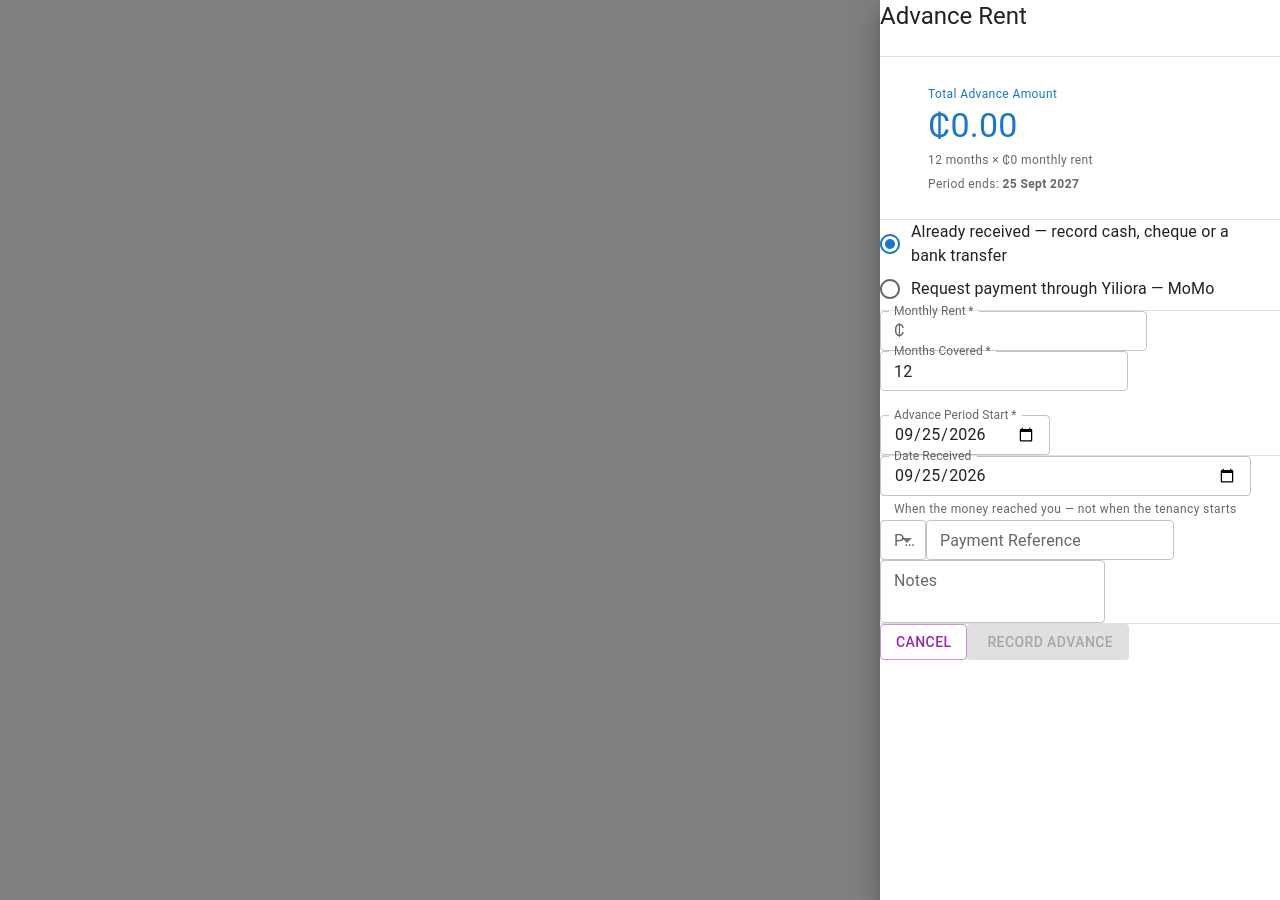
it: AddAdvanceRentDrawer › shows cash/cheque payment options when recording, and removes that control entirely when switching to request payment
The width and height of the screenshot is (1280, 900).
Click the dropdown named "payment method" at [903, 540], box [880,520,926,560]
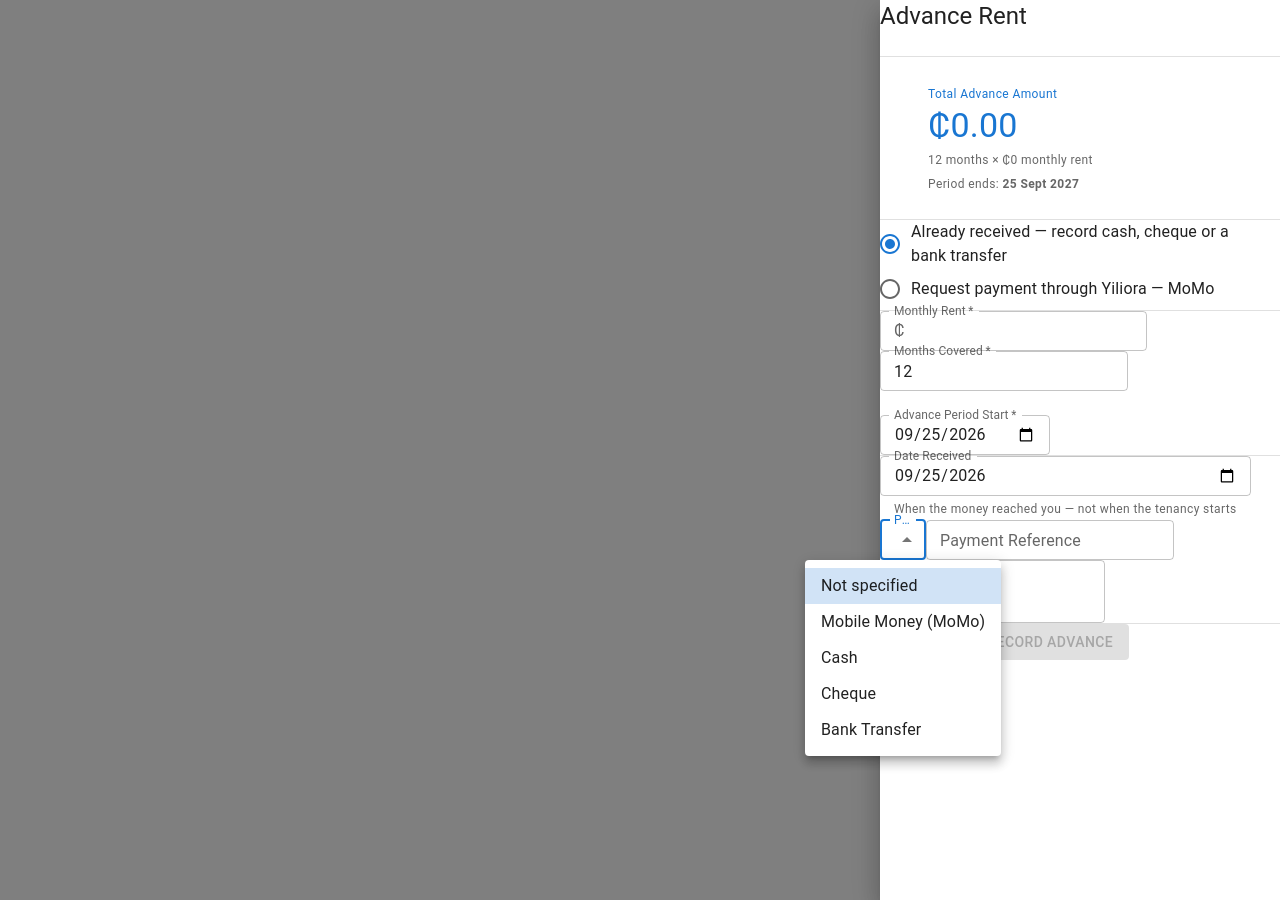
Expected: the option "Cash" is shown
Expected: the option "Cheque" is shown, [821,684,876,703]
Click the option "Cash" at [839, 658], box [821,648,858,667]
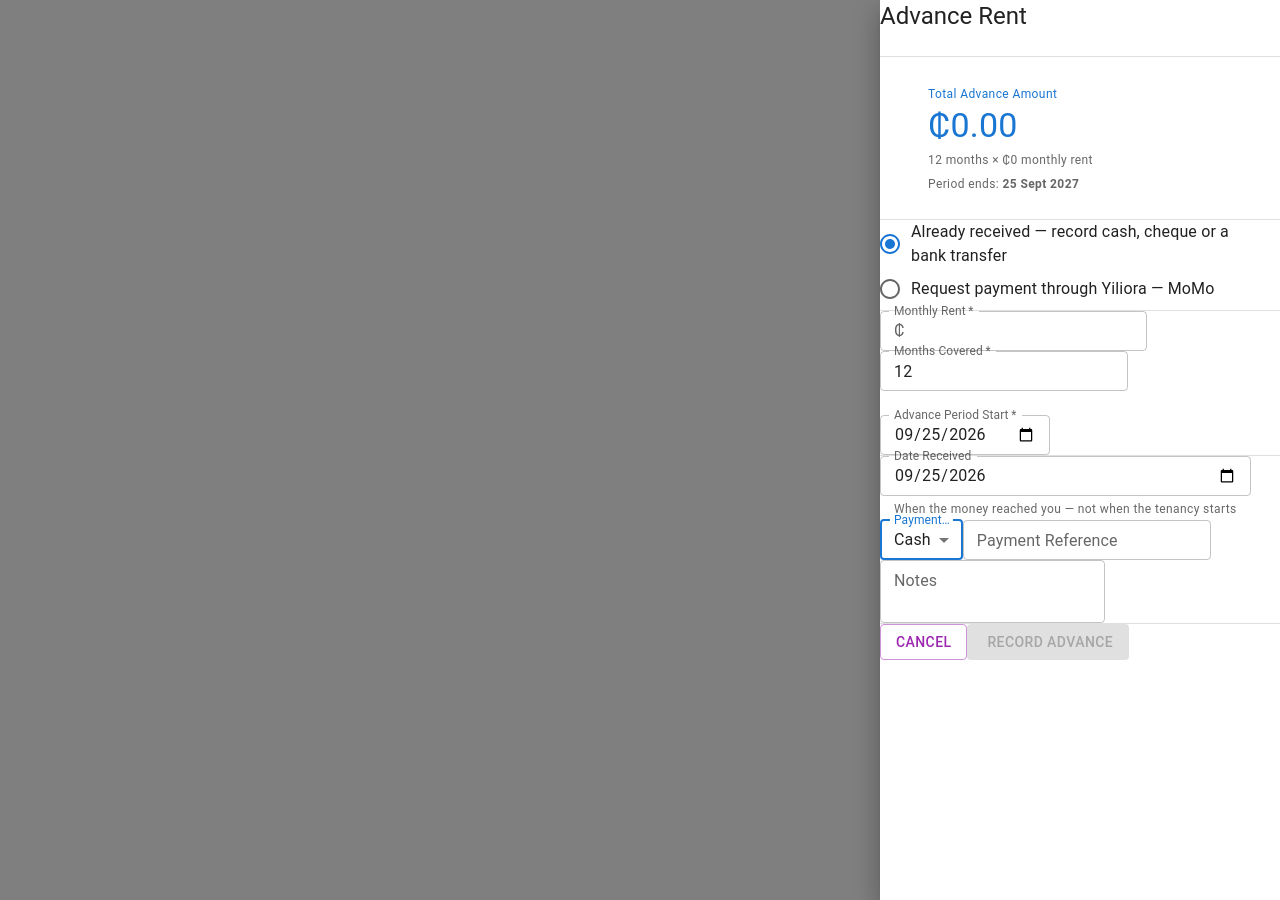
Click the radio button labelled "Request payment through Yiliora — MoMo" at [1046, 289], box [878,277,1214,301]
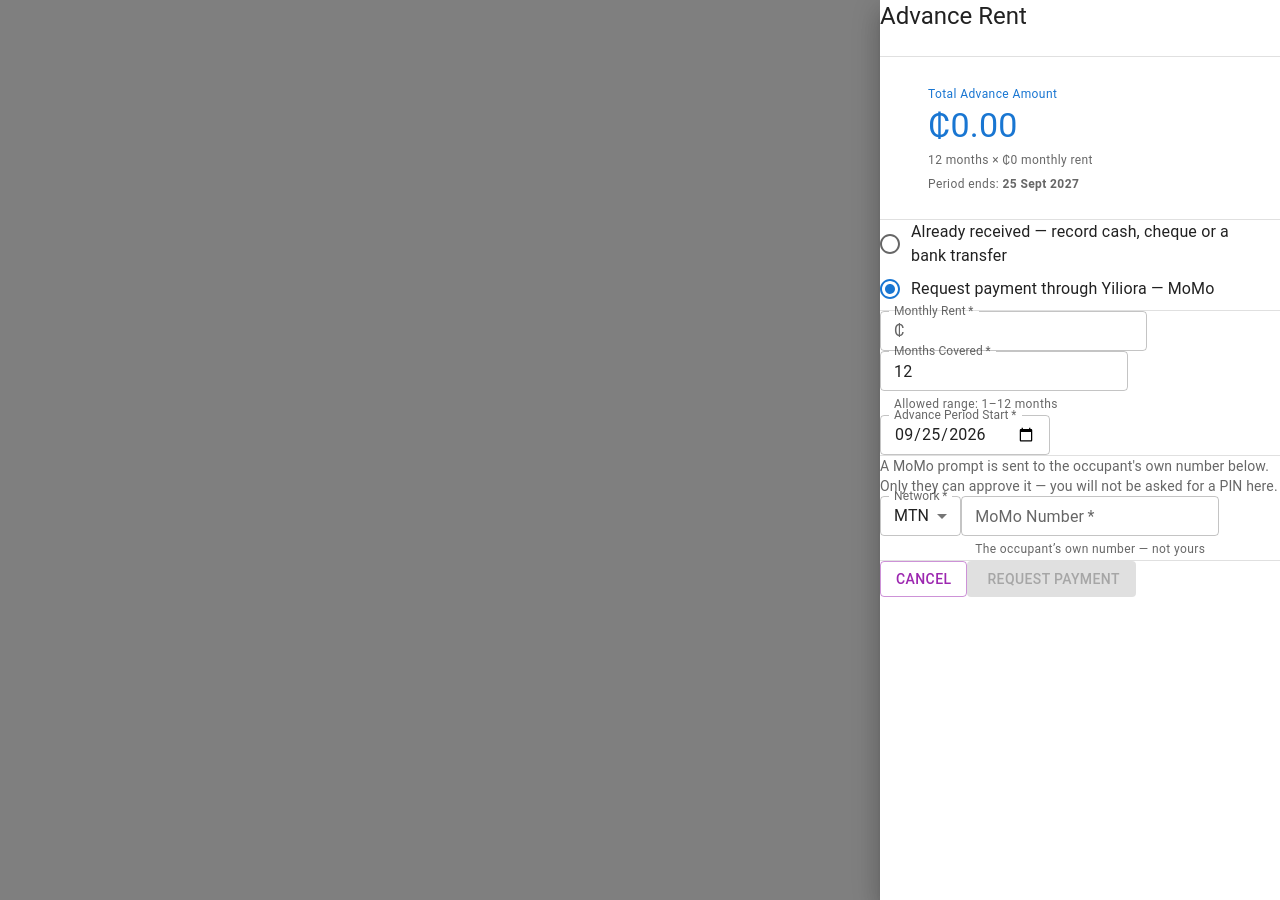
Expected: the dropdown named "network" is shown, [894,506,929,525]
Expected: the label labelled "Payment Method" is gone
// ...and switching back to "record" restores it.
Click the radio button labelled "Already received — record cash, cheque or a bank transfer" at [1066, 244], box [869,220,1264,268]
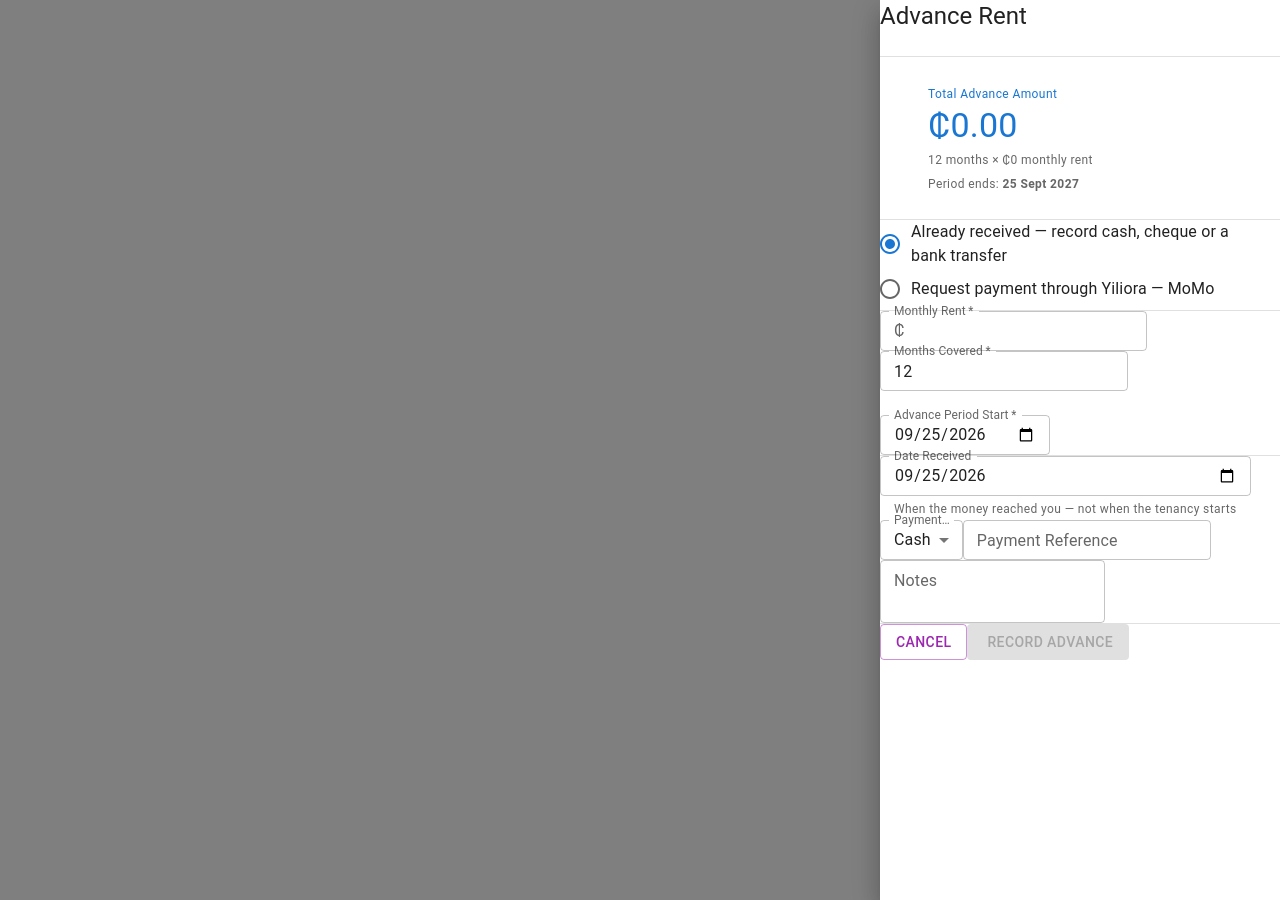
Expected: the dropdown named "payment method" is shown, [894,530,931,549]
Expected: the label labelled "MoMo Number" is gone
